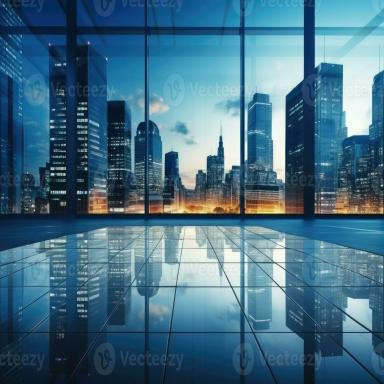glass_panel: (152, 33, 241, 211), (319, 35, 383, 212), (80, 34, 143, 212), (246, 33, 304, 211), (18, 36, 48, 212), (80, 39, 108, 213), (49, 42, 67, 211), (0, 36, 14, 211), (153, 0, 239, 26)
